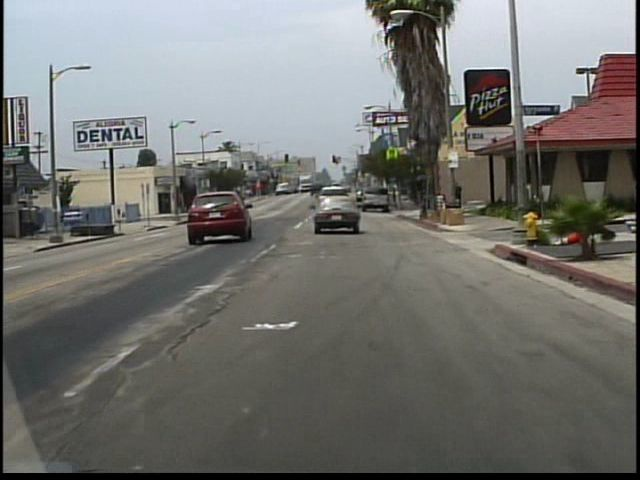person: (455, 183, 464, 209), (453, 185, 454, 209)
